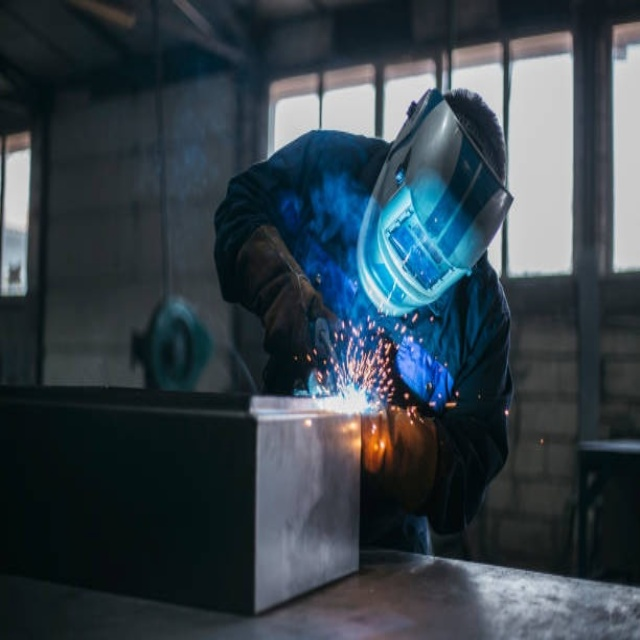Guantes: (230, 218, 341, 387)
